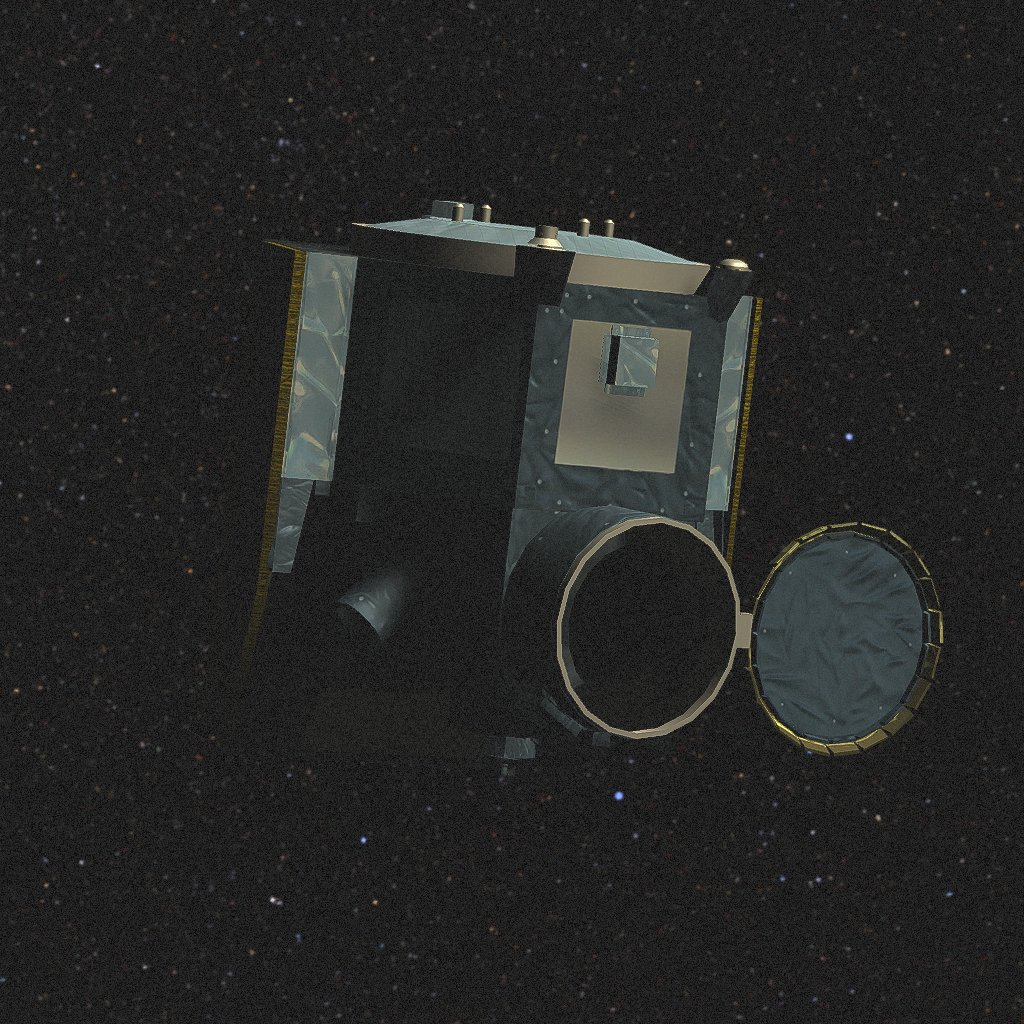cheops: (202, 201, 943, 776)
